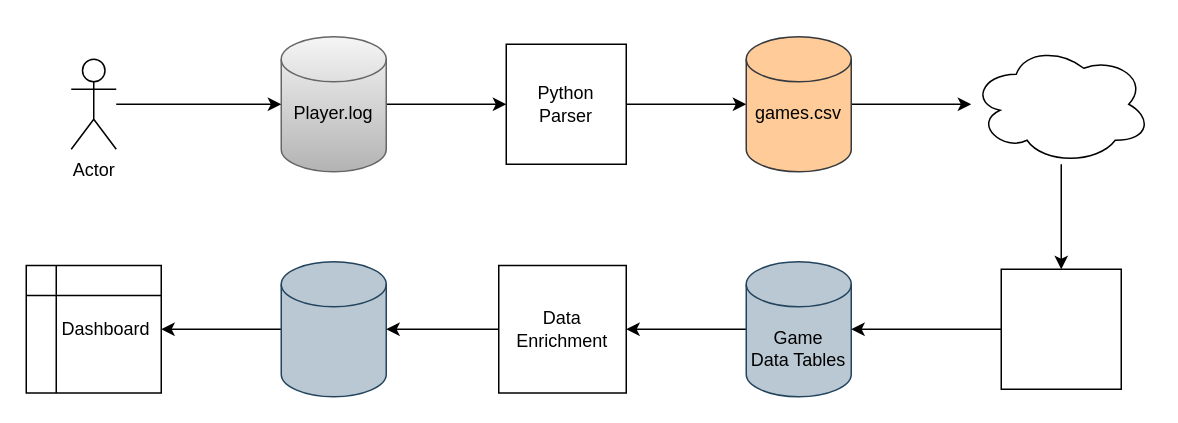
Image size: 1178x423. Some labels were removed from this diagram. The centre of each missing label's shape, as x and y in pixels:
Enriched Tables: (x=333, y=328)
GCP: (x=1060, y=103)
SQL Transform: (x=1060, y=328)
